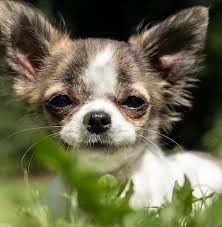Bulldog: (2, 2, 217, 206)
